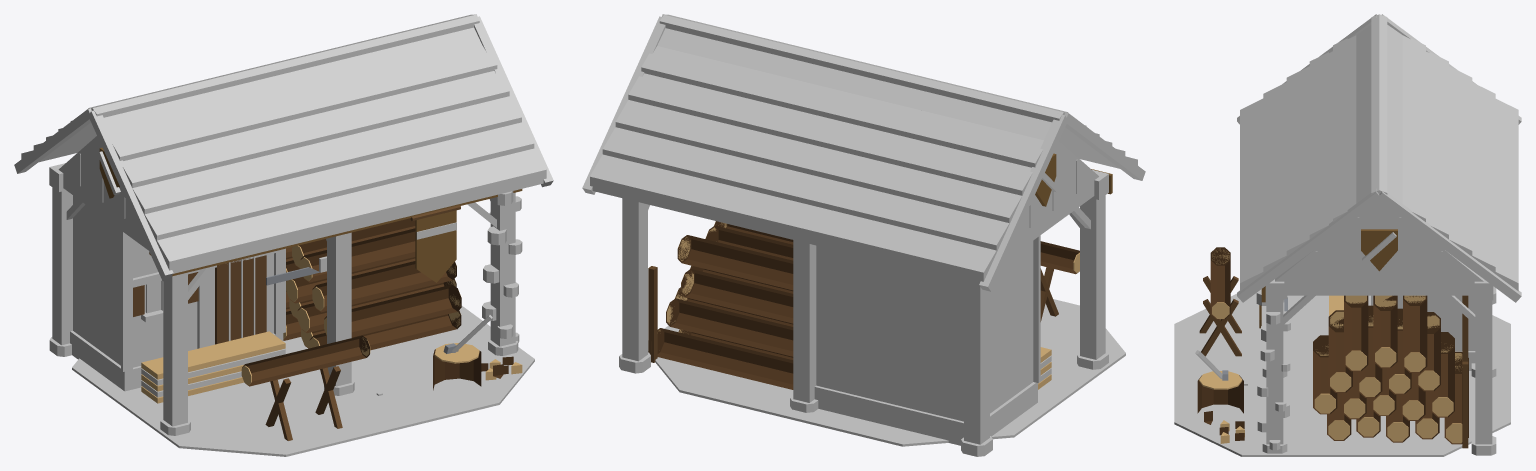
The model's file is lumber_camp.obj.
The picture shows the model from 3 angles, left to right: view 1: azimuth 30°, elevation 25°; view 2: azimuth 150°, elevation 25°; view 3: azimuth 270°, elevation 25°; orthographic projection. The views are drawn at different scales.
Visible parts, largest first — view 1: Roof, Ground, Log, Post, Room, Roof.Ridge, Planks, Gable.Barge, Room.Door, Room.Post, Pennant, Log.End (+13 smaller); view 2: Roof, Room, Log, Post, Ground, Roof.Ridge, Gable.Barge, Room.Plinth, Gable, Post.Foot, Beam.Side, Room.Post (+3 smaller); view 3: Roof, Ground, Log, Log.End, Gable, Post, Gable.Barge, Roof.Ridge, Beam.Side, Room, Ivy, Sawhorse.Leg (+10 smaller).
Part boxes in pixels (left/top/right/bottom): Roof: left=21, top=27, right=546, bottom=273; Ground: left=72, top=306, right=534, bottom=456; Log: left=242, top=218, right=461, bottom=386; Post: left=52, top=163, right=515, bottom=426; Room: left=73, top=195, right=273, bottom=367; Roof.Ridge: left=88, top=14, right=479, bottom=117; Planks: left=141, top=331, right=285, bottom=403; Gable.Barge: left=14, top=14, right=553, bottom=279; Room.Door: left=215, top=255, right=266, bottom=344; Room.Post: left=121, top=230, right=285, bottom=371; Pennant: left=415, top=210, right=456, bottom=282; Log.End: left=241, top=245, right=460, bottom=385; Roof: left=590, top=28, right=1137, bottom=284; Room: left=816, top=241, right=1033, bottom=421; Log: left=651, top=221, right=1079, bottom=389; Post: left=622, top=170, right=1105, bottom=444; Ground: left=648, top=299, right=1125, bottom=446; Roof.Ridge: left=659, top=14, right=1068, bottom=122; Gable.Barge: left=582, top=14, right=1145, bottom=291; Room.Plinth: left=814, top=382, right=1037, bottom=445; Gable: left=1016, top=141, right=1098, bottom=237; Post.Foot: left=619, top=351, right=1108, bottom=456; Beam.Side: left=1005, top=173, right=1103, bottom=260; Room.Post: left=1033, top=235, right=1040, bottom=383; Roof: left=1240, top=25, right=1518, bottom=291; Ground: left=1174, top=293, right=1510, bottom=456; Log: left=1210, top=247, right=1468, bottom=444; Log.End: left=1212, top=248, right=1462, bottom=443; Gable: left=1275, top=201, right=1483, bottom=281; Post: left=1266, top=281, right=1492, bottom=444; Gable.Barge: left=1237, top=14, right=1521, bottom=302; Roof.Ridge: left=1371, top=14, right=1387, bottom=194; Beam.Side: left=1272, top=279, right=1486, bottom=295; Room: left=1397, top=295, right=1475, bottom=350; Ivy: left=1256, top=289, right=1290, bottom=450; Sawhorse.Leg: left=1199, top=276, right=1241, bottom=356.
Bounding box in the file's own units: 5.46 × 3.91 × 4.49.
